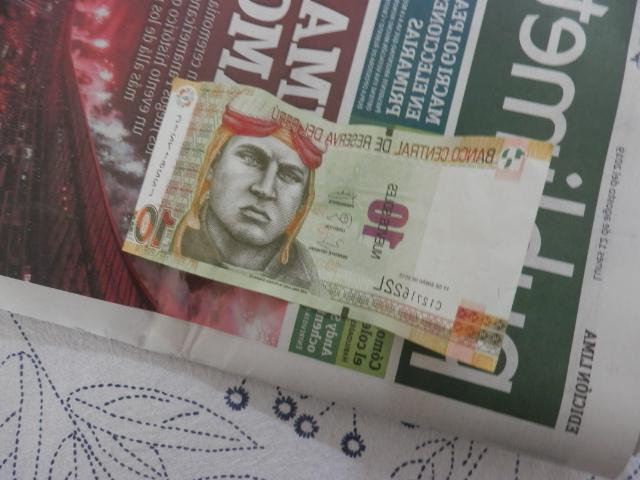B10: (121, 78, 553, 370)
